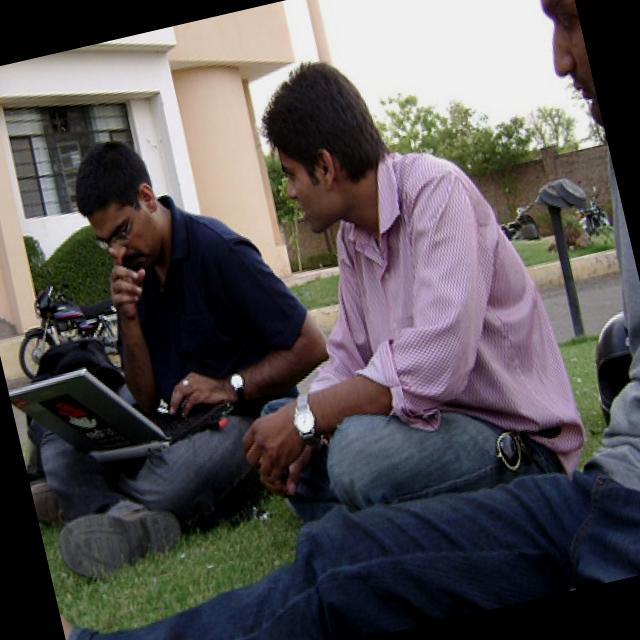Vehicle: (2, 268, 131, 381), (570, 184, 612, 239), (496, 200, 541, 247)
